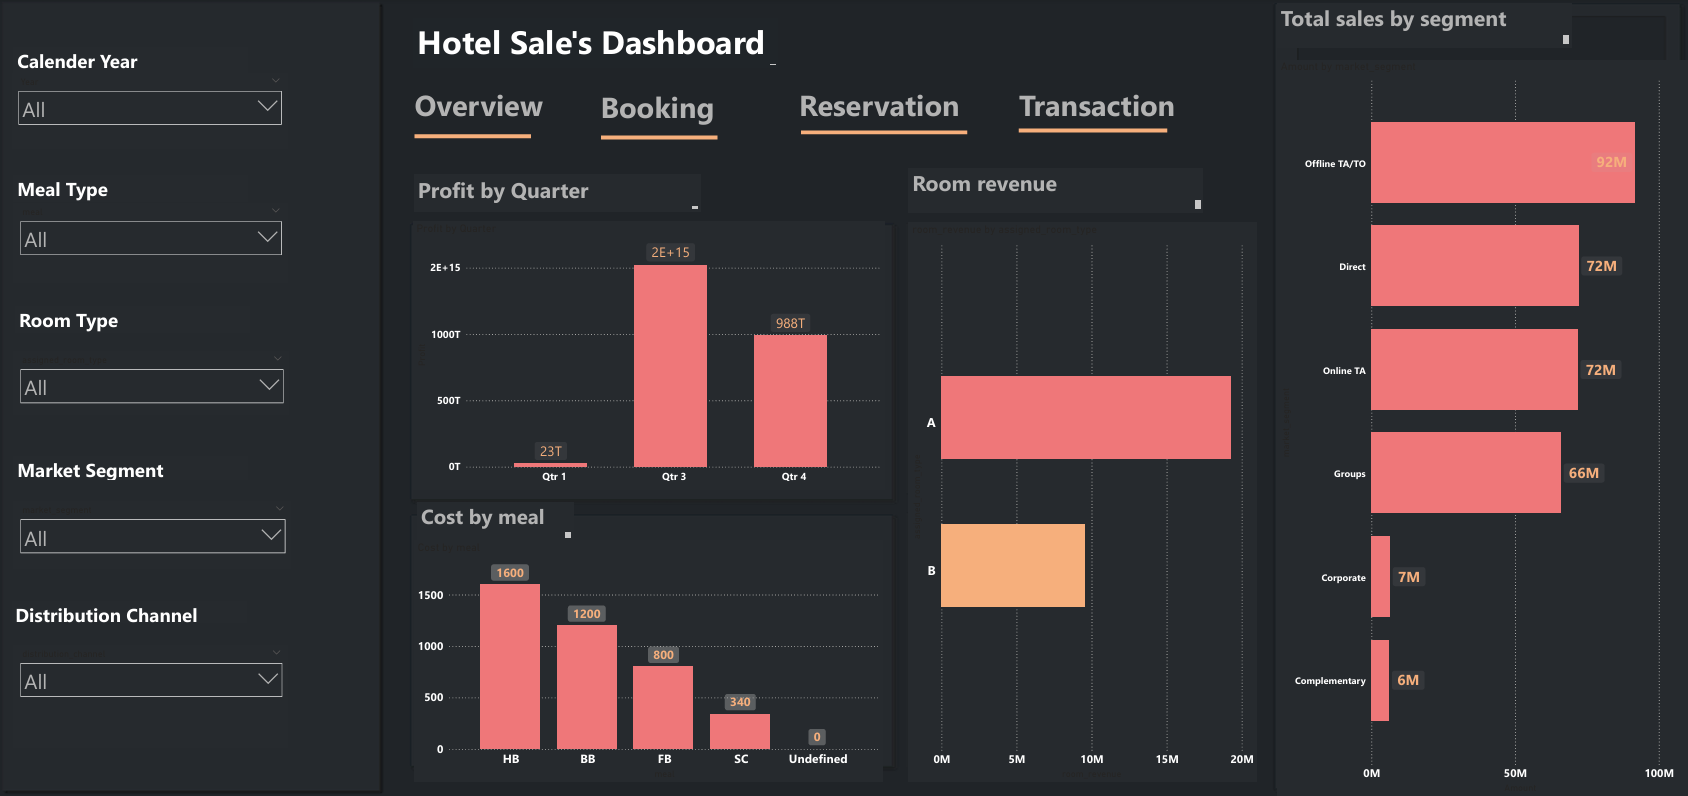

This screenshot's page, from the dashboard's own definition file:
{"tool":"powerbi","page":{"name":"Transaction","canvas":[2645,1250],"ordinal":3},"visuals":[{"type":"textbox","title":"Hotel Sale''s Dashboard","box":[651.2,32.3,570.5,78],"z":0},{"type":"pageNavigator","box":[665,157.3,1051.3,71.7],"z":1000},{"type":"textbox","title":"Profit by Quarter","box":[651.8,275.8,448.1,59.5],"z":2000},{"type":"textbox","title":"Cost by meal","box":[656.7,789.2,245.6,60.7],"z":3000},{"type":"textbox","title":"Room revenue","box":[1425.9,266.4,460.7,68.9],"z":4000},{"type":"slicer","fields":{"Values":["booking.Booking_date.Variation.Date Hierarchy.Year"]},"box":[21.6,117.4,432.6,117.4],"z":5000},{"type":"textbox","title":"Calender Year","box":[24.7,77.3,367.7,40.2],"z":6000},{"type":"slicer","fields":{"Values":["booking.meal"]},"box":[24.7,321.4,429.5,123.6],"z":7000},{"type":"slicer","fields":{"Values":["Rooms.assigned_room_type"]},"box":[24.7,553.2,432.6,98.9],"z":8000},{"type":"textbox","title":"Meal Type","box":[24.7,278.1,367.7,40.2],"z":9000},{"type":"textbox","title":"Room Type","box":[28.2,482.6,366.7,40.7],"z":10000},{"type":"textbox","title":"Market Segment","box":[24.7,716.9,367.7,37.1],"z":11000},{"type":"textbox","title":"Distribution Channel","box":[22.1,943.7,367,33.1],"z":12000},{"type":"slicer","fields":{"Values":["market.market_segment"]},"box":[24.7,788,435.7,105.1],"z":13000},{"type":"slicer","fields":{"Values":["market.distribution_channel"]},"box":[24.8,1012.7,430.5,160],"z":14000},{"type":"barChart","fields":{"Y":["Sum(Transaction.room_revenue)"],"Category":["Rooms.assigned_room_type"]},"box":[1425.9,351,545.3,877.5],"z":15000},{"type":"lineStackedColumnComboChart","fields":{"Category":["meal.meal"],"Y":["meal.Cost"]},"box":[651.8,849.3,733.3,379.2],"z":16000},{"type":"barChart","fields":{"Y":["Sum(salesss.Amount)"],"Category":["market.market_segment"]},"box":[2002.6,97.2,642.4,1153.3],"z":17000},{"type":"textbox","title":"Total sales by segment","box":[2003.3,8.3,460.8,69],"z":18000},{"type":"actionButton","title":"Transaction","box":[1598.3,134.8,288.3,75.2],"z":19000},{"type":"actionButton","title":"Reservation","box":[1253.6,134.8,288.3,75.2],"z":20000},{"type":"actionButton","title":"Booking","box":[943.3,137.9,310.3,72.1],"z":21000},{"type":"actionButton","title":"Overview","box":[651.8,134.8,260.1,78.3],"z":22000},{"type":"shape","box":[651.8,172.4,181.8,87.7],"z":23000},{"type":"shape","box":[943.7,171.1,182.1,93.8],"z":24000},{"type":"shape","box":[1256.7,156.7,260.1,106.6],"z":25000},{"type":"shape","box":[1598.3,153.6,231.9,106.6],"z":26000},{"type":"clusteredColumnChart","fields":{"Category":["booking.Booking_date.Variation.Date Hierarchy.Quarter"],"Y":["...Profit"]},"box":[650,350,737.5,420],"z":27000}]}

Visuals, with their boxes in screenshot pixels (x1, y1, x2, y2), scaled from the page's 2645x1250 canvas onto the 1688x796 screenshot:
"Hotel Sale''s Dashboard" textbox: box(416, 21, 780, 70)
pageNavigator: box(424, 100, 1095, 146)
"Profit by Quarter" textbox: box(416, 176, 702, 214)
"Cost by meal" textbox: box(419, 503, 576, 541)
"Room revenue" textbox: box(910, 170, 1204, 214)
slicer - booking.Booking_date.Variation.Date Hierarchy.Year: box(14, 75, 290, 150)
"Calender Year" textbox: box(16, 49, 250, 75)
slicer - booking.meal: box(16, 205, 290, 283)
slicer - Rooms.assigned_room_type: box(16, 352, 292, 415)
"Meal Type" textbox: box(16, 177, 250, 203)
"Room Type" textbox: box(18, 307, 252, 333)
"Market Segment" textbox: box(16, 457, 250, 480)
"Distribution Channel" textbox: box(14, 601, 248, 622)
slicer - market.market_segment: box(16, 502, 294, 569)
slicer - market.distribution_channel: box(16, 645, 291, 747)
barChart - Sum(Transaction.room_revenue) x Rooms.assigned_room_type: box(910, 224, 1258, 782)
lineStackedColumnComboChart - meal.meal x meal.Cost: box(416, 541, 884, 782)
barChart - Sum(salesss.Amount) x market.market_segment: box(1278, 62, 1687, 795)
"Total sales by segment" textbox: box(1278, 5, 1573, 49)
"Transaction" actionButton: box(1020, 86, 1204, 134)
"Reservation" actionButton: box(800, 86, 984, 134)
"Booking" actionButton: box(602, 88, 800, 134)
"Overview" actionButton: box(416, 86, 582, 136)
shape: box(416, 110, 532, 166)
shape: box(602, 109, 718, 169)
shape: box(802, 100, 968, 168)
shape: box(1020, 98, 1168, 166)
clusteredColumnChart - booking.Booking_date.Variation.Date Hierarchy.Quarter x ...Profit: box(415, 223, 885, 490)
